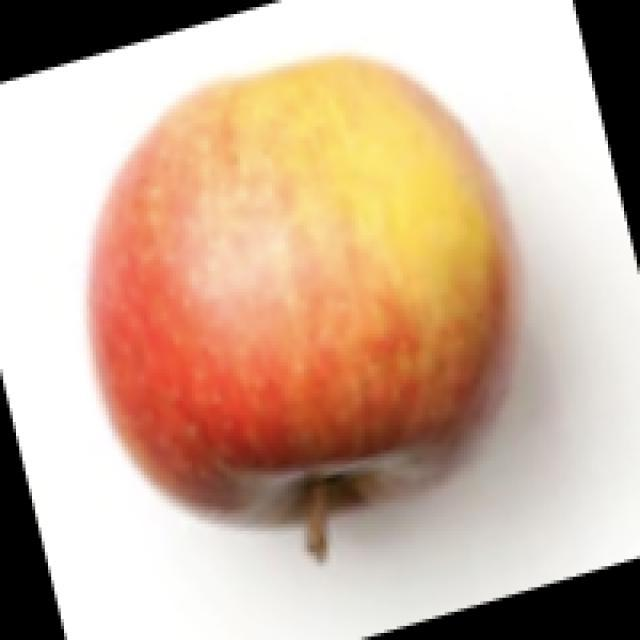Fresh Apple: (97, 51, 515, 542)
